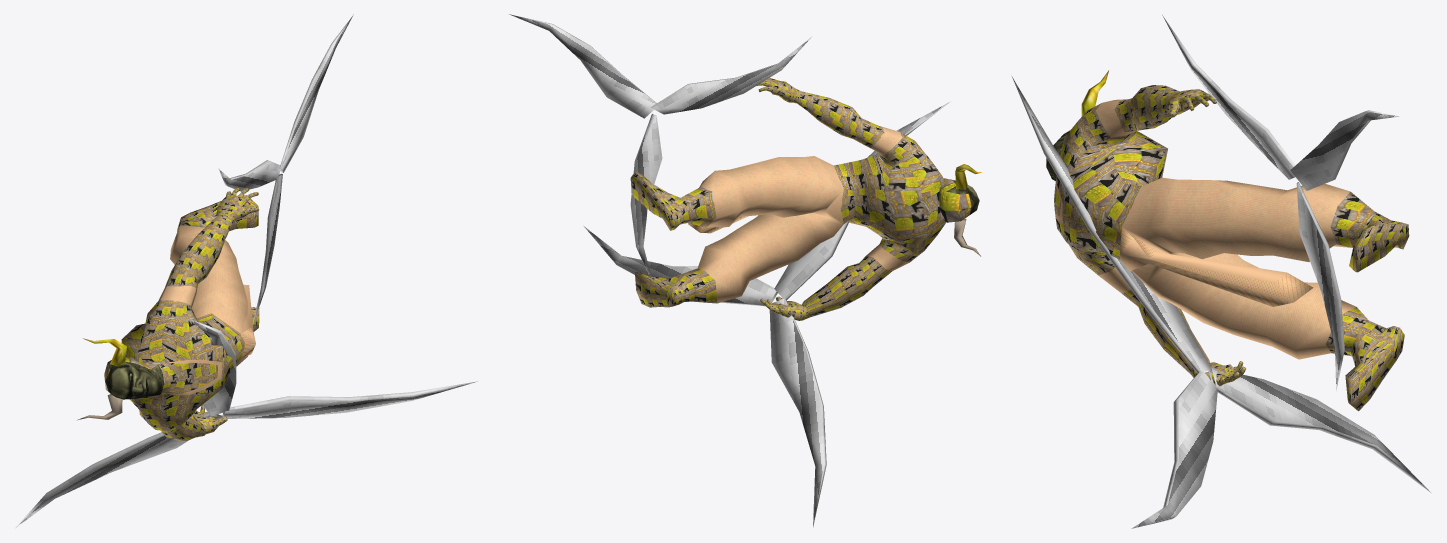
The model's file is ahiravana_000152.obj.
The picture shows the model from 3 angles, left to right: view 1: azimuth 30°, elevation 25°; view 2: azimuth 150°, elevation 25°; view 3: azimuth 270°, elevation 25°; orthographic projection. The views are drawn at different scales.
Parts seen in each view (by area): view 1: body_Circle, Cylinder_Cylinder.001, Cylinder.001_Cylinder.000; view 2: body_Circle, Cylinder_Cylinder.001, Cylinder.001_Cylinder.000; view 3: body_Circle, Cylinder_Cylinder.001, Cylinder.001_Cylinder.000.
Part boxes in pixels (x1,y1,x2,y2): body_Circle: (77,187,259,440); Cylinder_Cylinder.001: (15,319,477,528); Cylinder.001_Cylinder.000: (218,14,353,324); body_Circle: (630,78,981,320); Cylinder_Cylinder.001: (584,102,949,527); Cylinder.001_Cylinder.000: (509,14,812,276); body_Circle: (1046,70,1409,411); Cylinder_Cylinder.001: (1012,77,1430,528); Cylinder.001_Cylinder.000: (1162,15,1399,390).
Bounding box in the file's own units: 3.52 × 3.66 × 2.37.
